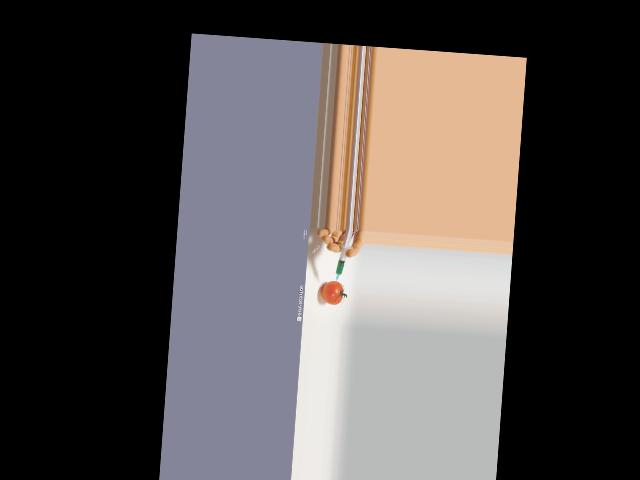tomato: (320, 279, 343, 304)
